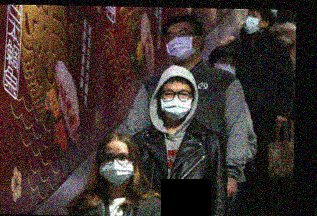with_mask: (164, 25, 201, 62), (98, 149, 134, 186), (158, 85, 193, 119), (211, 55, 237, 75), (244, 11, 264, 34)
